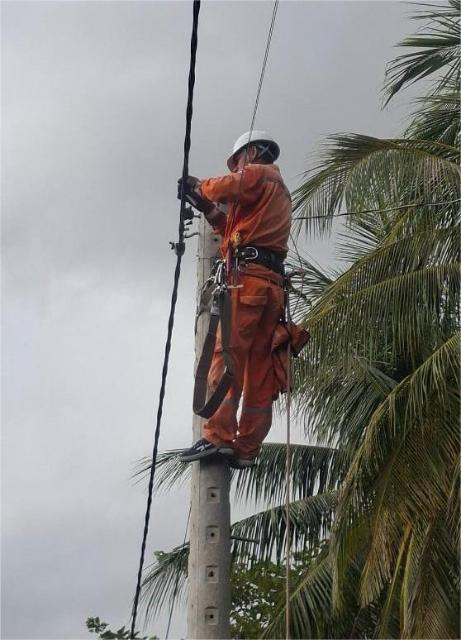gloves: (167, 170, 220, 217)
harness: (197, 236, 326, 292)
helmet: (221, 129, 281, 170)
shoes: (164, 435, 233, 462), (232, 437, 274, 470)
